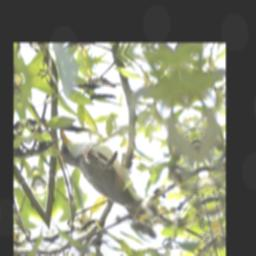Cuckoo: (54, 102, 204, 256)
